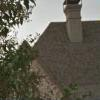Chimney: (59, 1, 89, 44)
